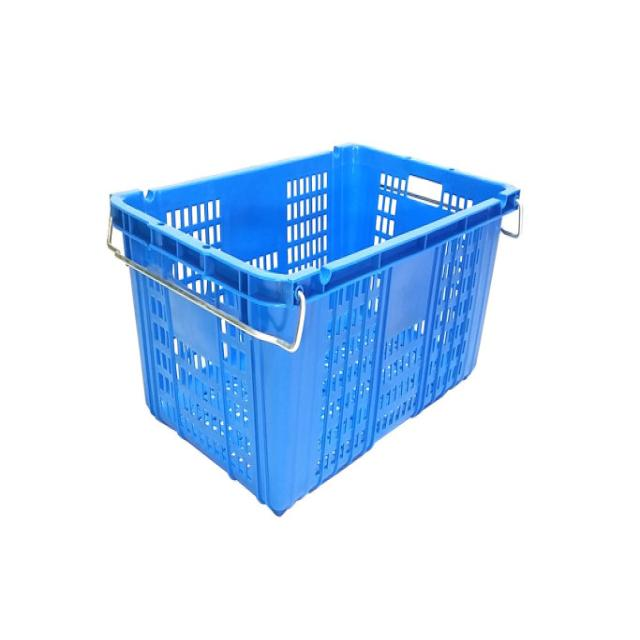basket: (101, 122, 558, 533)
